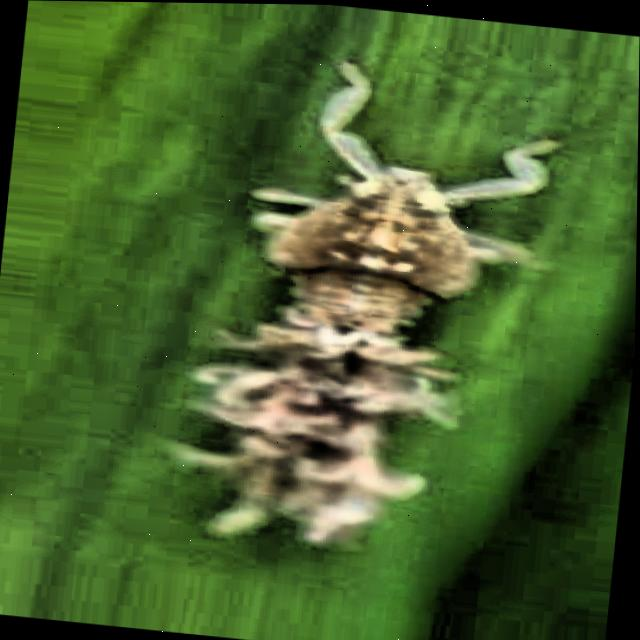Pyrilla-perpusilla: (152, 42, 572, 580)
